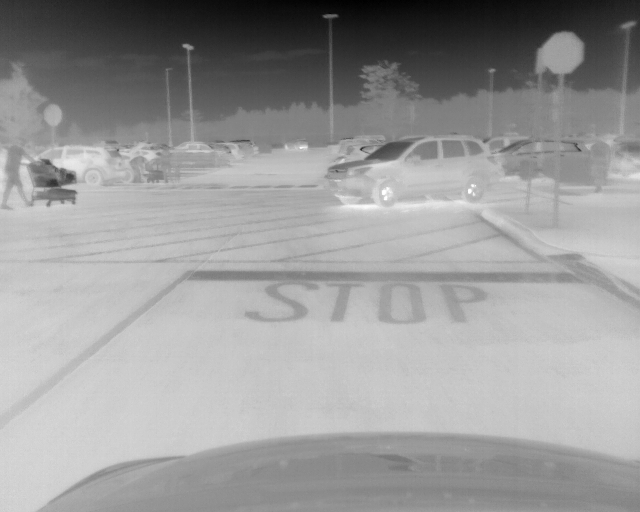car: (323, 135, 503, 208), (499, 136, 596, 181), (35, 144, 126, 187), (608, 135, 640, 180), (337, 139, 385, 162), (211, 141, 242, 162), (134, 141, 167, 159), (488, 135, 520, 152), (173, 142, 214, 154), (120, 151, 134, 183), (237, 139, 259, 157), (283, 137, 309, 151)
people: (1, 139, 38, 209), (129, 156, 149, 185)
